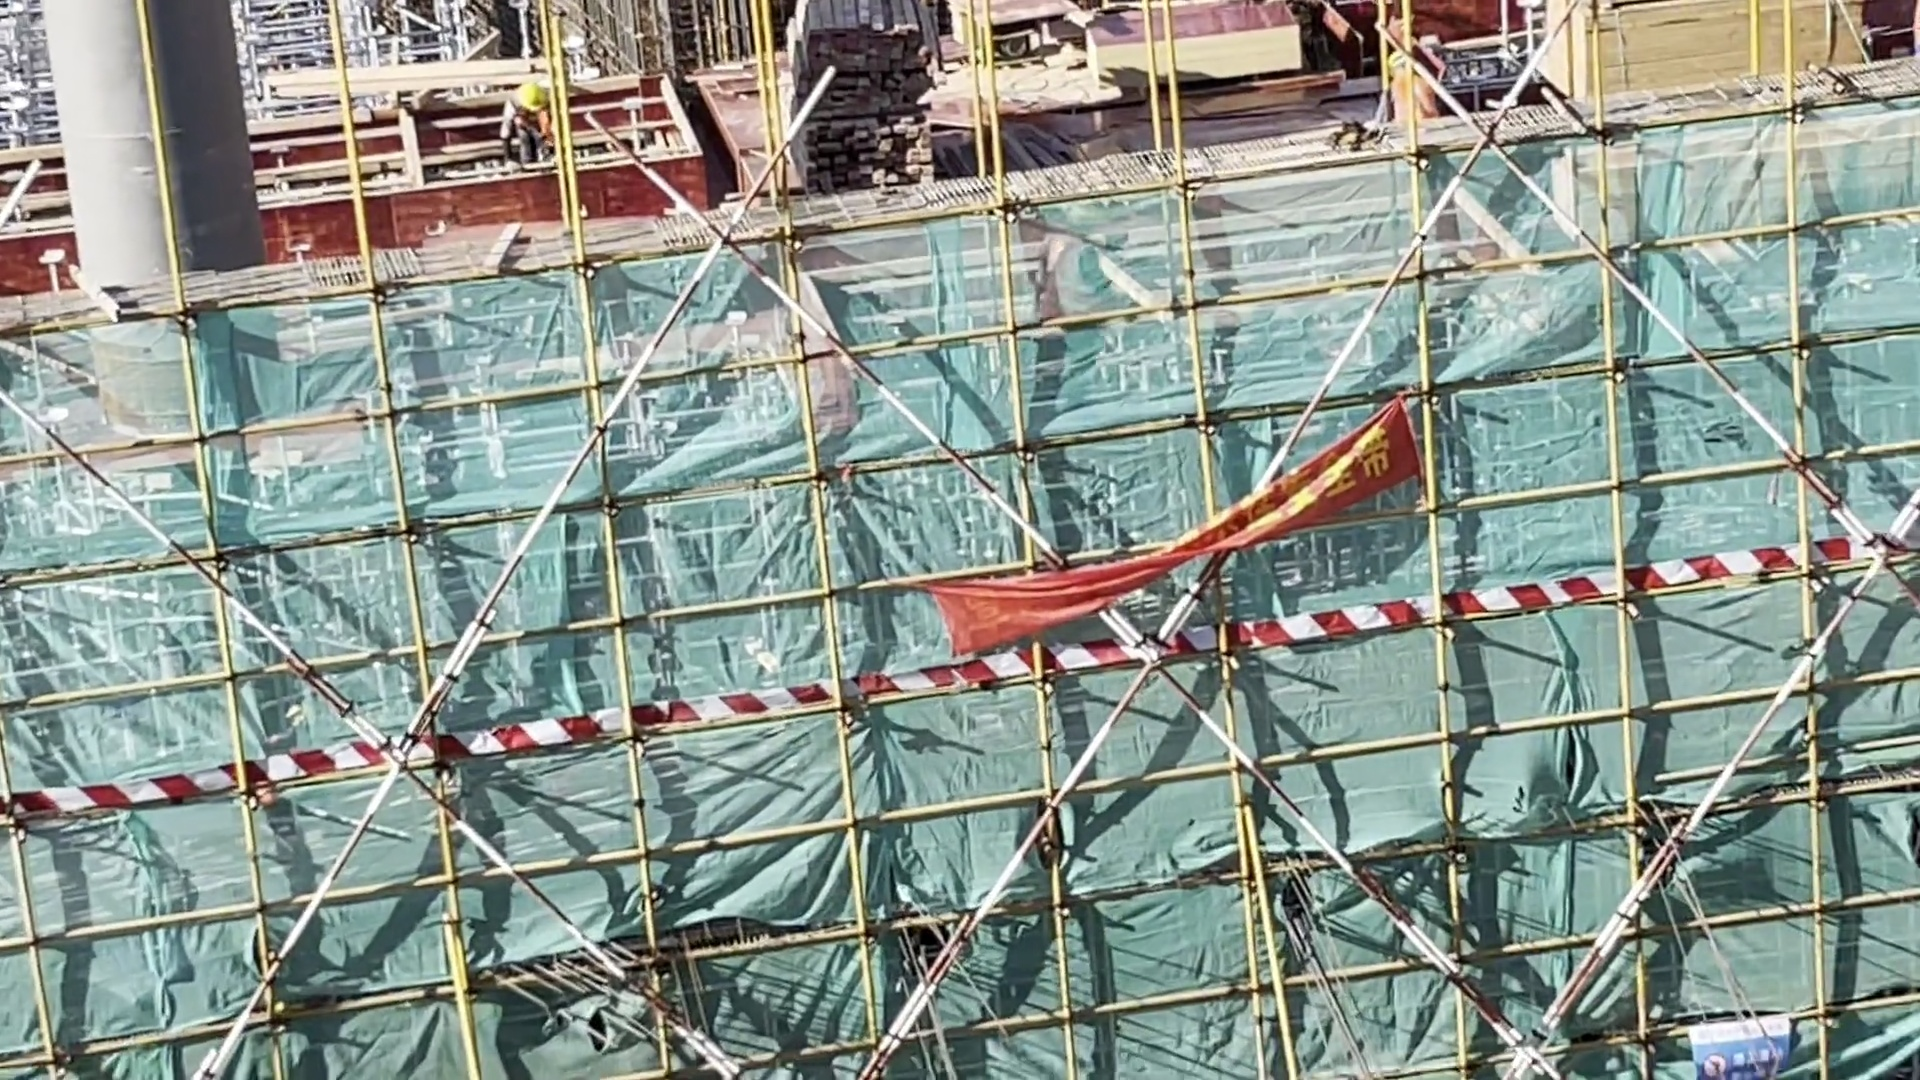helmet: (514, 78, 555, 117), (1385, 46, 1421, 74)
person: (489, 75, 584, 169), (1366, 43, 1448, 126)
slogan: (911, 409, 1457, 669), (1684, 977, 1799, 1080)
vest: (1378, 66, 1440, 127)
wood: (766, 1, 958, 208)
